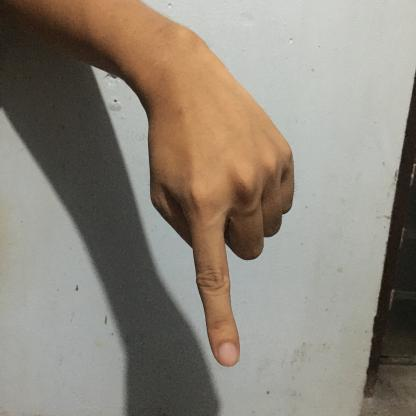here: (134, 20, 301, 378)
